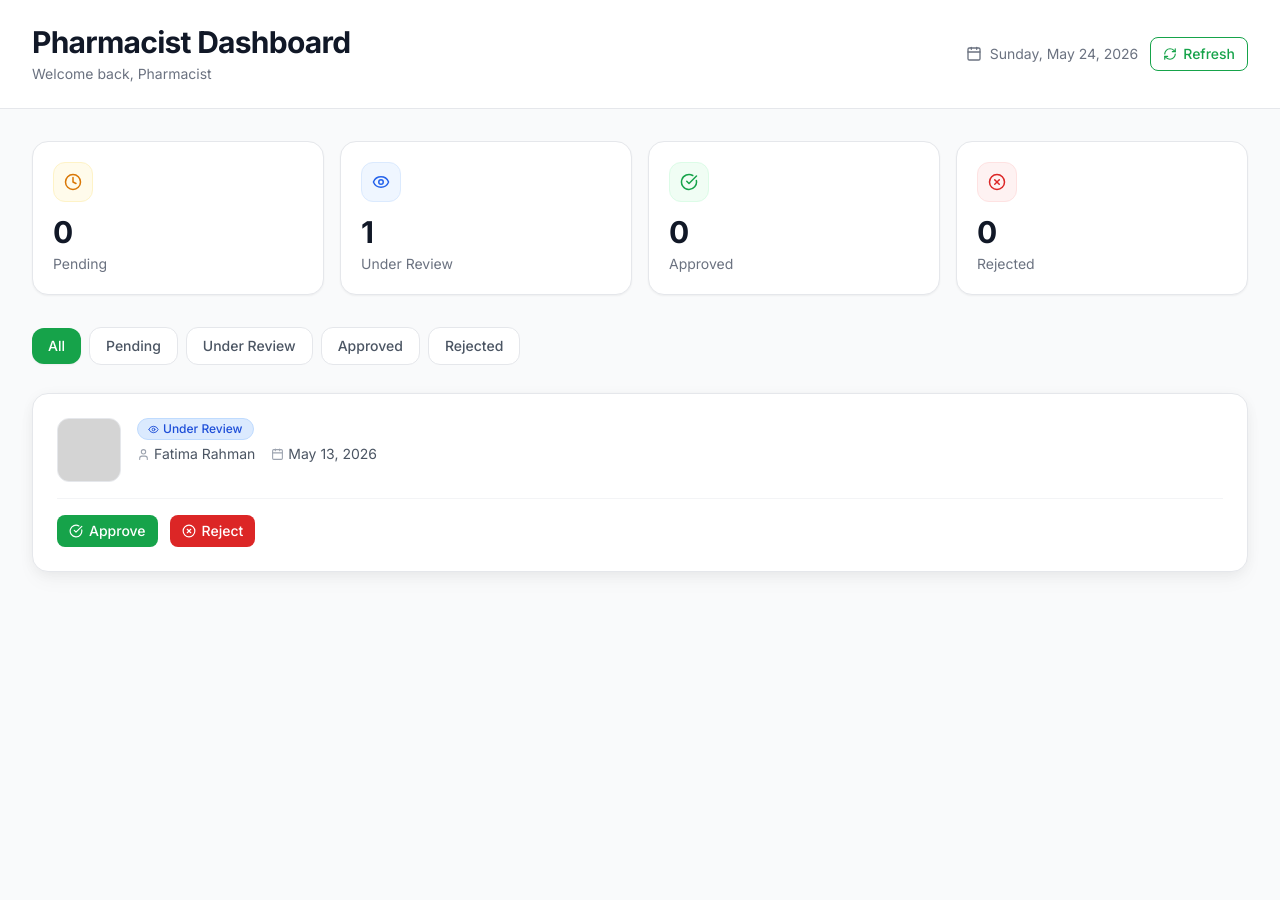
it: Reject flow › clicking Reject opens the reject modal
Step 1. Click the button with test id "reject-btn" → [212, 531], box x1=170 y1=515 x2=255 y2=547
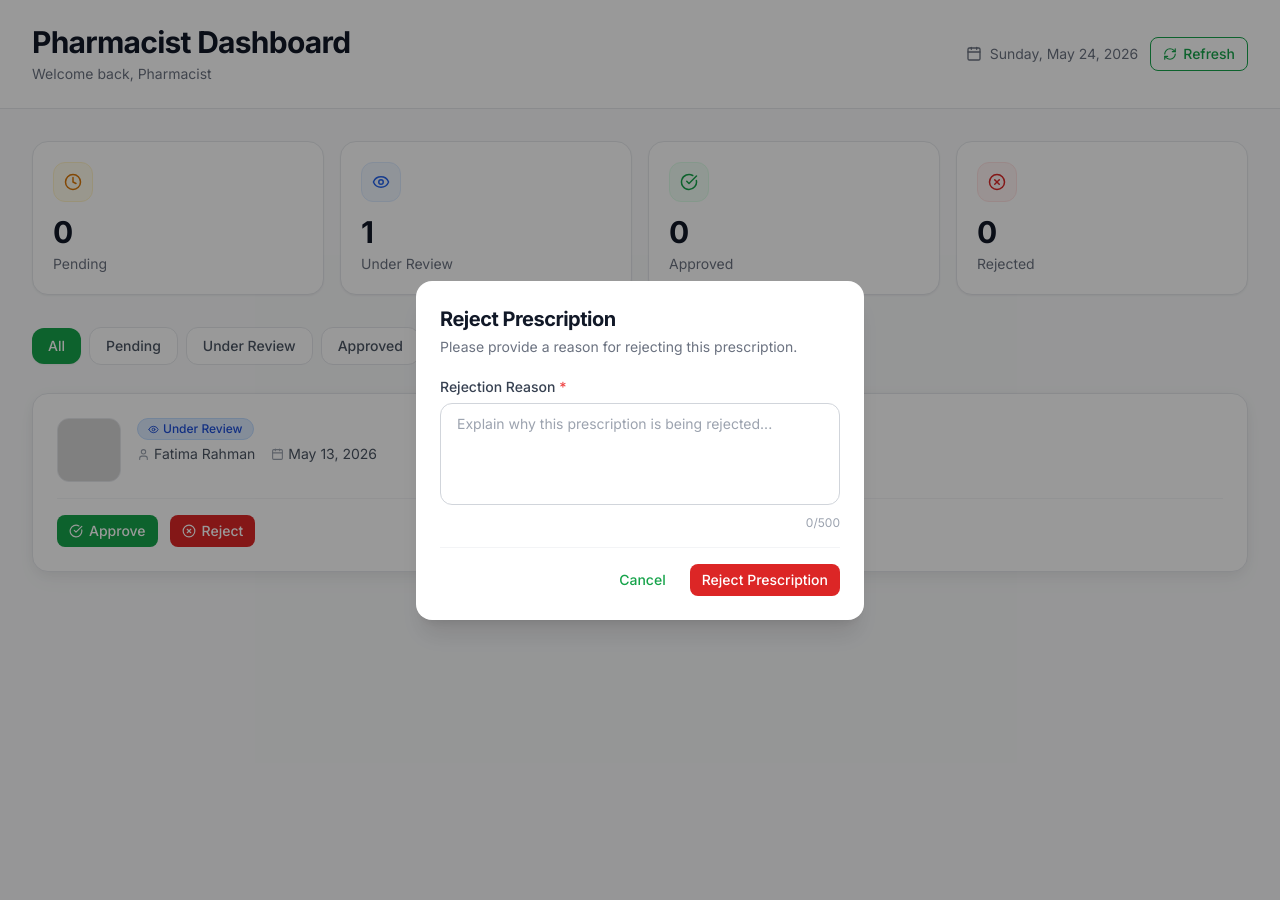
Expected: the element with test id "reject-modal" is shown, x1=416 y1=280 x2=864 y2=620
